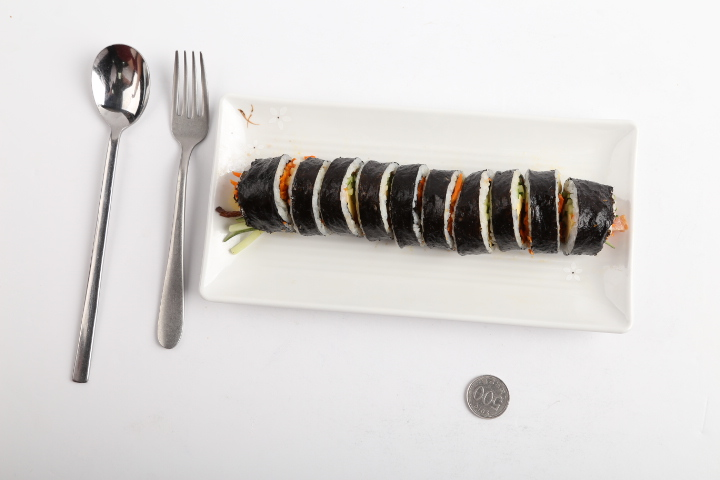dish: (199, 96, 636, 333)
ref_coin: (466, 375, 510, 419)
ref_fork: (171, 49, 209, 149)
ref_spoon: (91, 43, 151, 140)
김밥: (235, 154, 615, 256)
